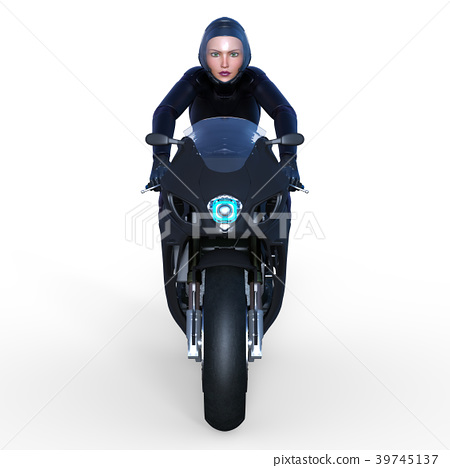helmet: (190, 15, 254, 73)
